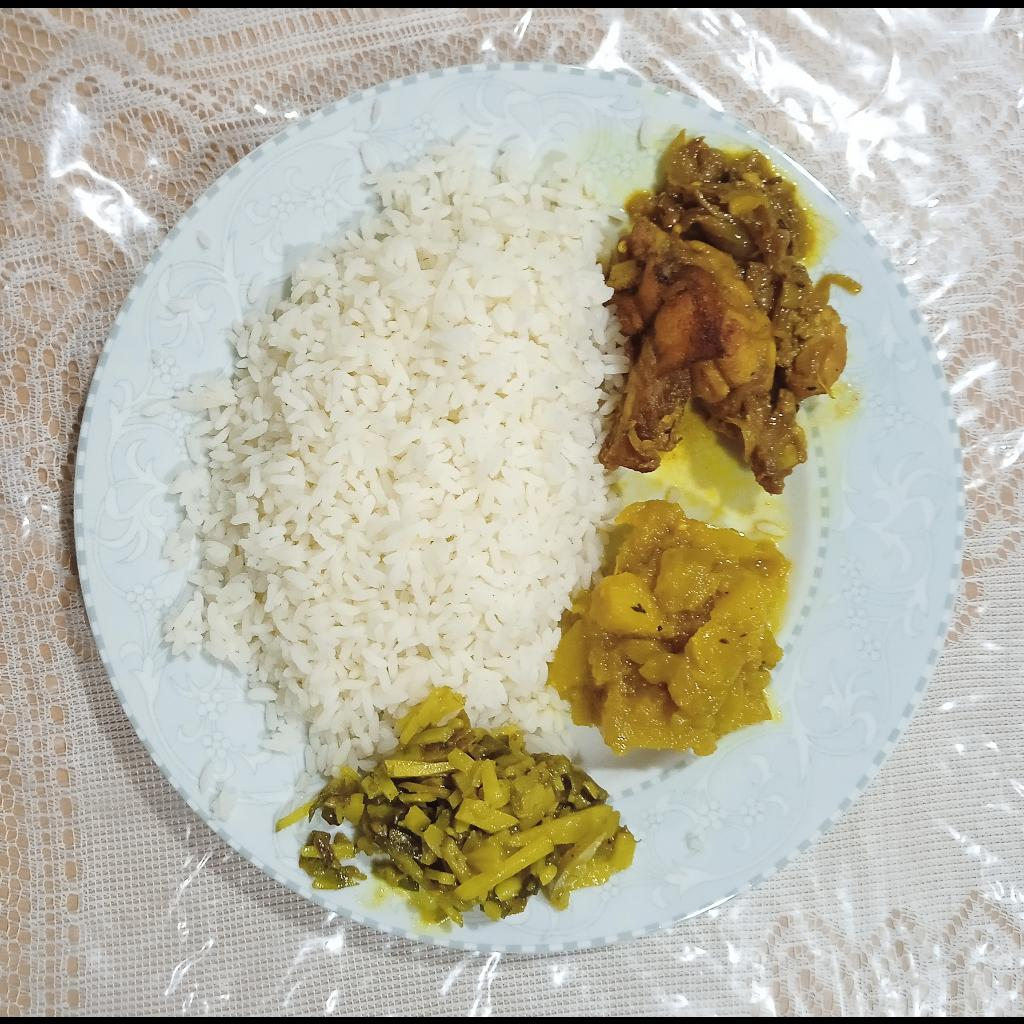chicken: (599, 134, 861, 491)
kumra-vaji: (552, 499, 792, 765)
rice: (157, 129, 619, 771)
vegetable: (265, 684, 637, 925)
